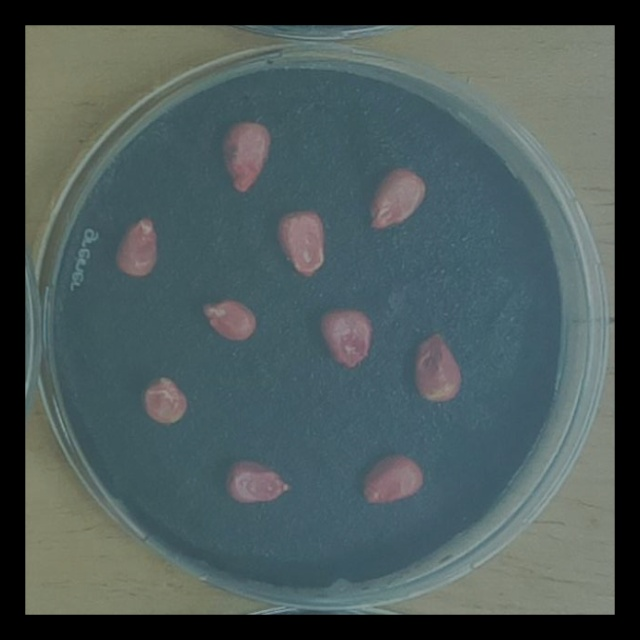Zea mays: (213, 112, 276, 199), (353, 445, 431, 511), (311, 300, 378, 376), (364, 160, 431, 235), (270, 202, 332, 282), (408, 323, 466, 407), (221, 452, 296, 509), (109, 209, 163, 282), (196, 290, 261, 345), (136, 368, 191, 427)
